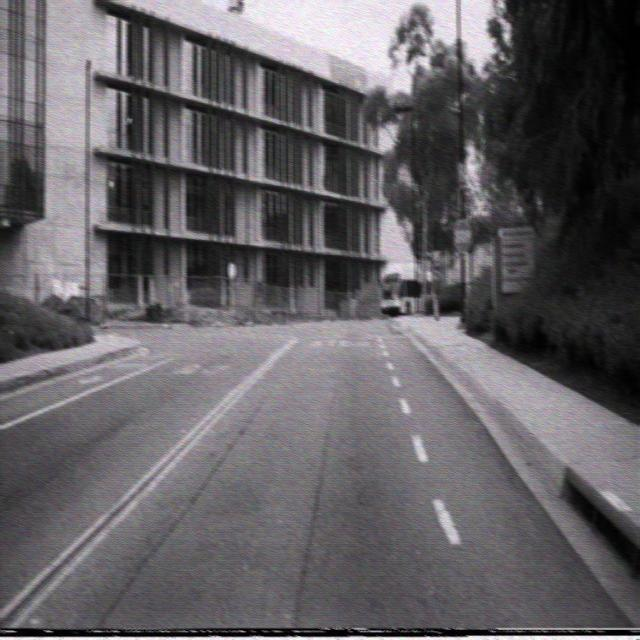stop: (452, 217, 472, 254)
